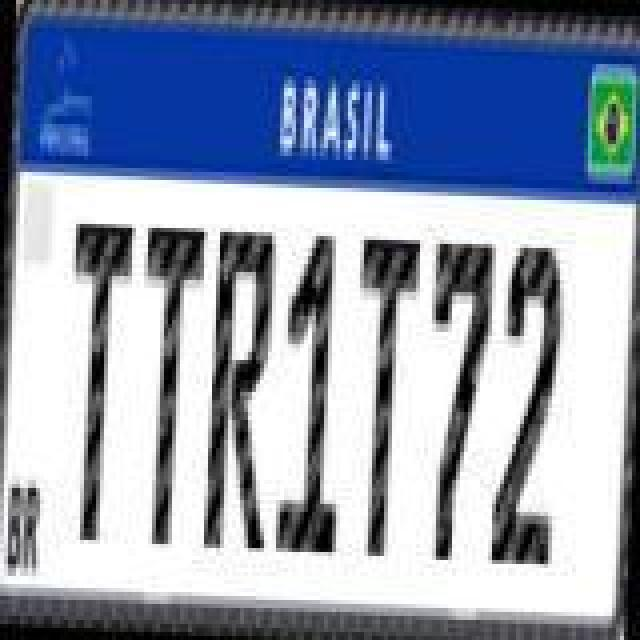1: (270, 226, 354, 558)
2: (486, 238, 570, 570)
7: (416, 236, 496, 564)
R: (200, 226, 280, 558)
T: (58, 218, 134, 550), (346, 234, 422, 566), (130, 220, 206, 548)
